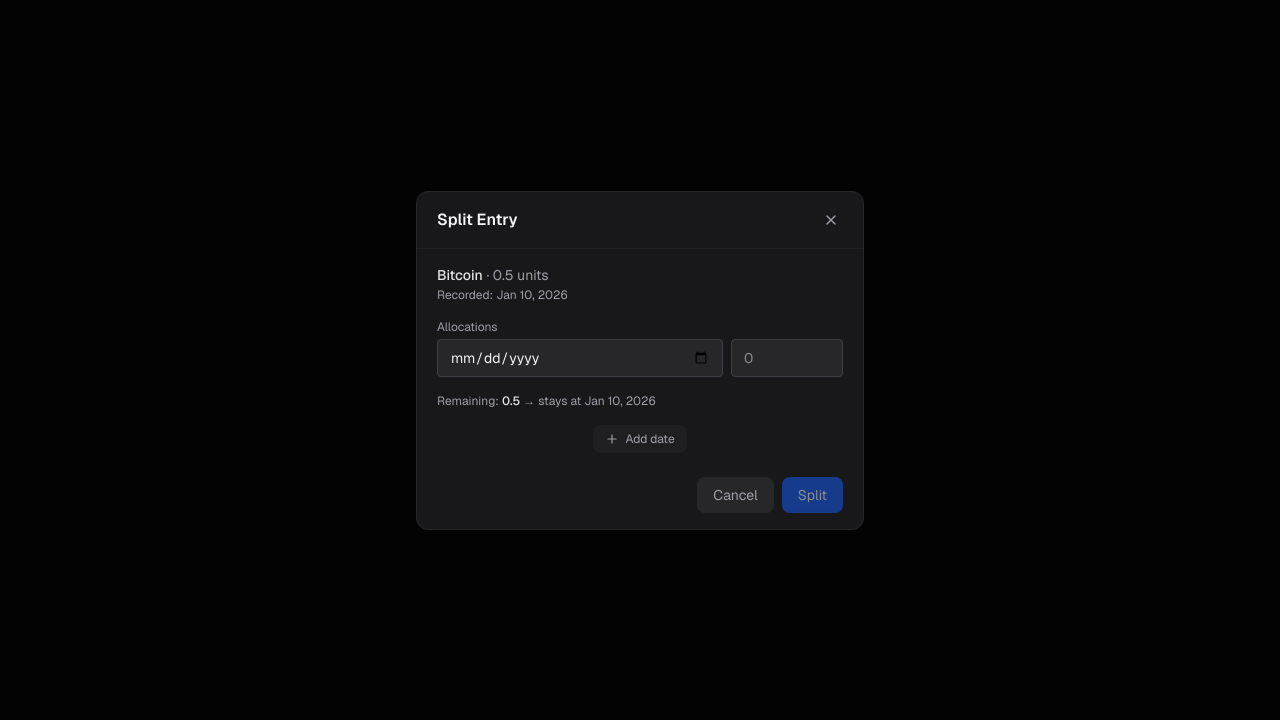
Test: SplitModal › shows over-allocated warning when total exceeds original
Type "0.6" into the number field named "Allocation 1 quantity".
click(787, 358); type("0.6")  # box 731,338 -> 843,376
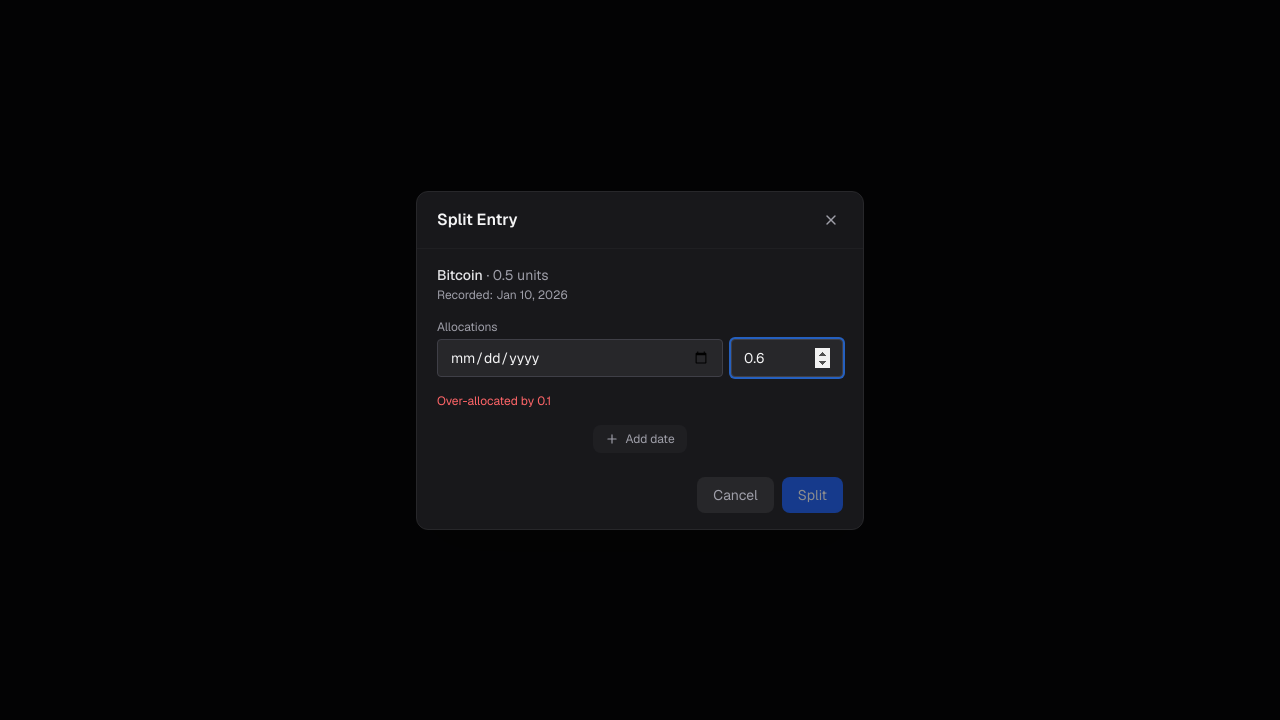
expect the text "Over-allocated by 0.1" is shown: met, box 437,392 -> 551,408
